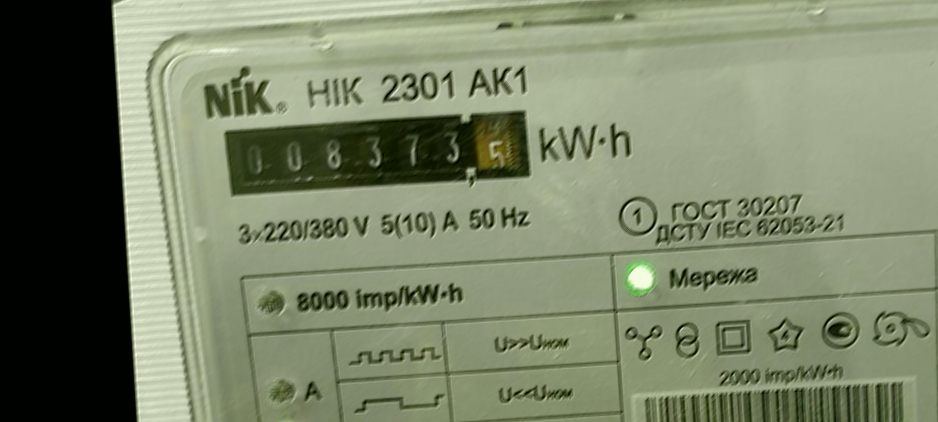0: (244, 140, 266, 177), (283, 137, 305, 174)
3: (362, 132, 386, 170), (440, 127, 464, 165)
4: (485, 117, 504, 138)
5: (487, 137, 508, 168)
7: (402, 129, 422, 169)
8: (322, 134, 346, 171)
screen: (218, 103, 540, 209)
